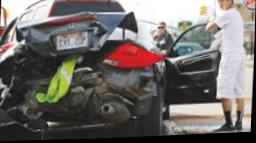Bumper: (0, 67, 157, 134)
Dickey: (0, 14, 139, 77)
Light: (101, 43, 168, 71)
